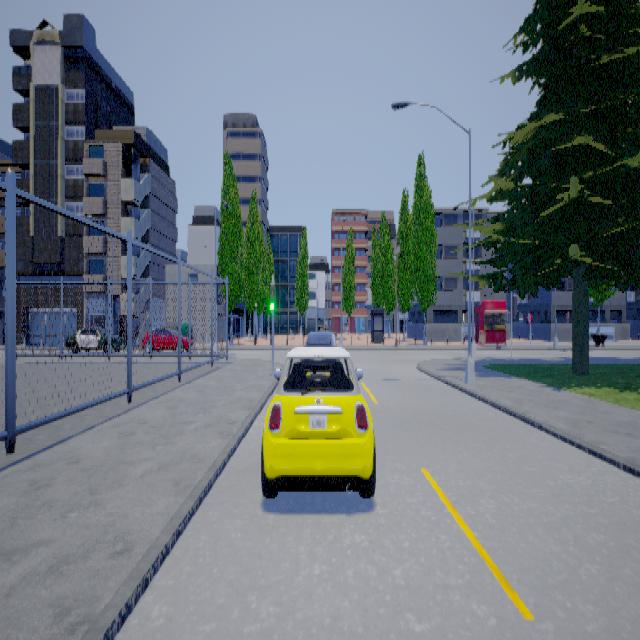green_light: (271, 276, 276, 315)
vehicle: (262, 330, 377, 497), (67, 323, 125, 352), (141, 328, 196, 351)
